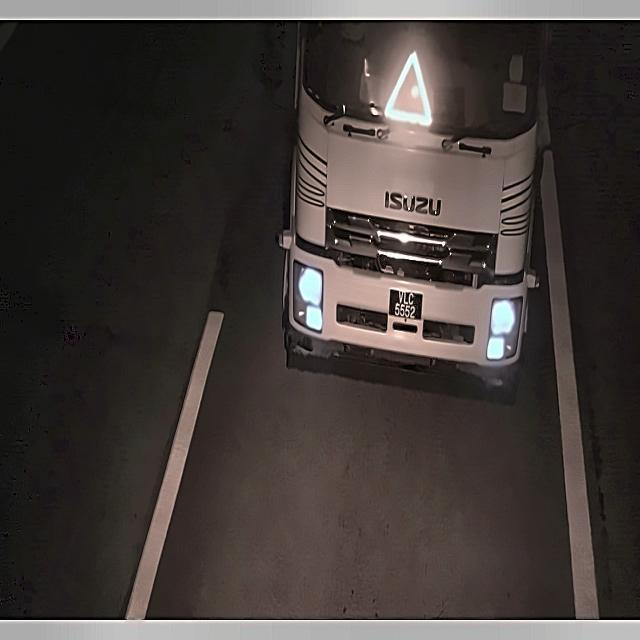car: (384, 282, 428, 328)
